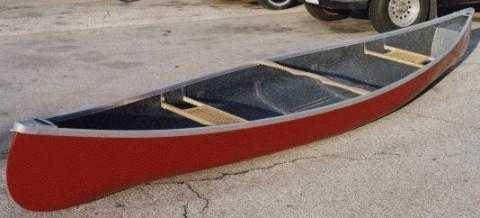kayak: (4, 19, 475, 213)
